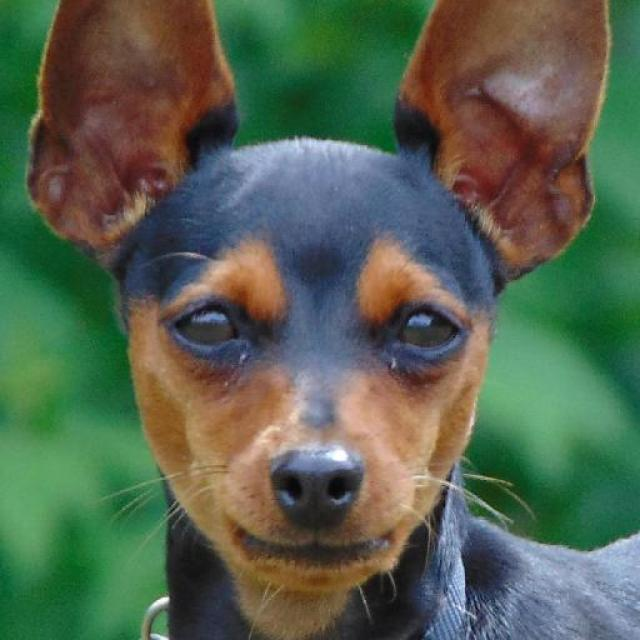sad: (84, 53, 524, 611)
